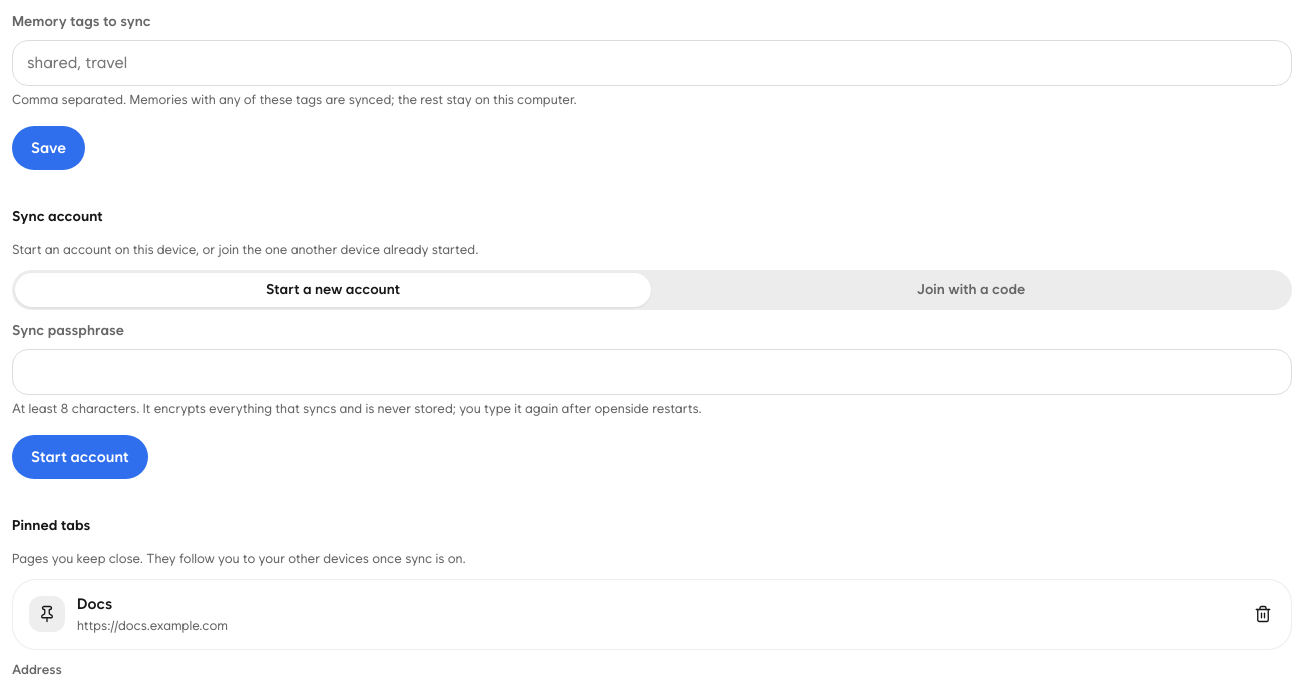
Test: SyncPage › starts an account with a typed passphrase and shows the code for the other device, without keeping the passphrase
(page scrolled)
Type "correct horse battery" into the password field labelled "Sync passphrase" at (652, 372), box [12,349,1292,395]
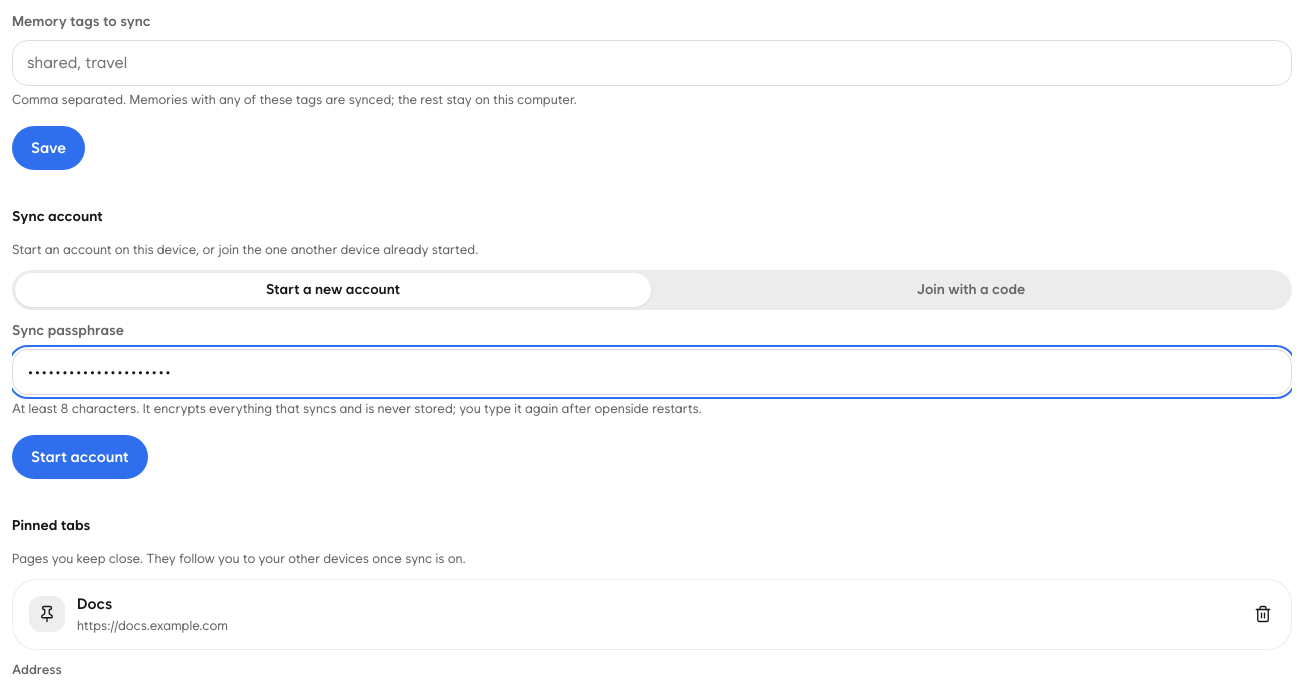
Click the button "Start account" at (80, 457), box [12,435,148,479]
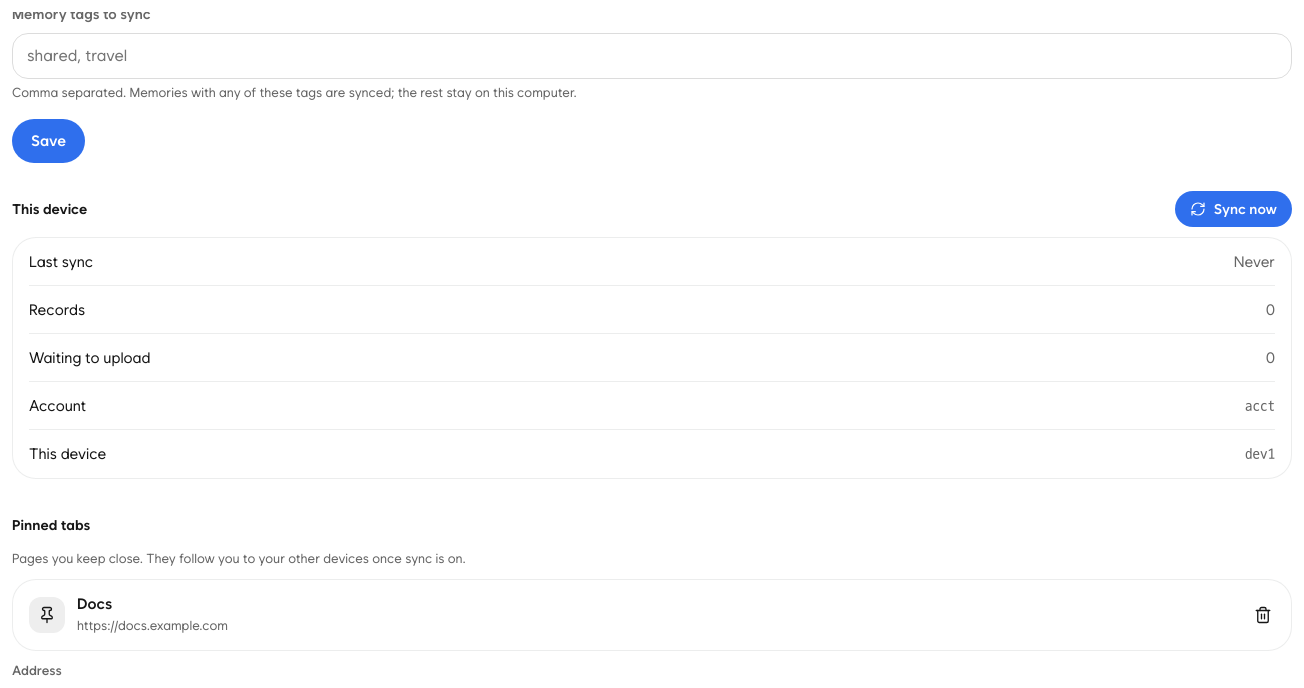
Expected: the button "Sync now" is shown, [1175,191,1292,227]
